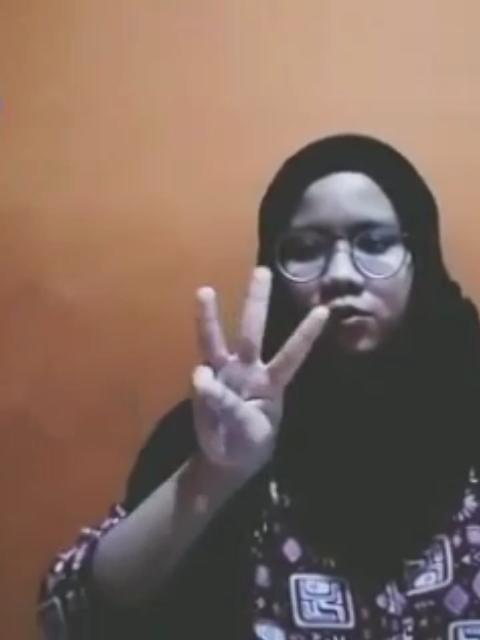W: (183, 264, 327, 484)
